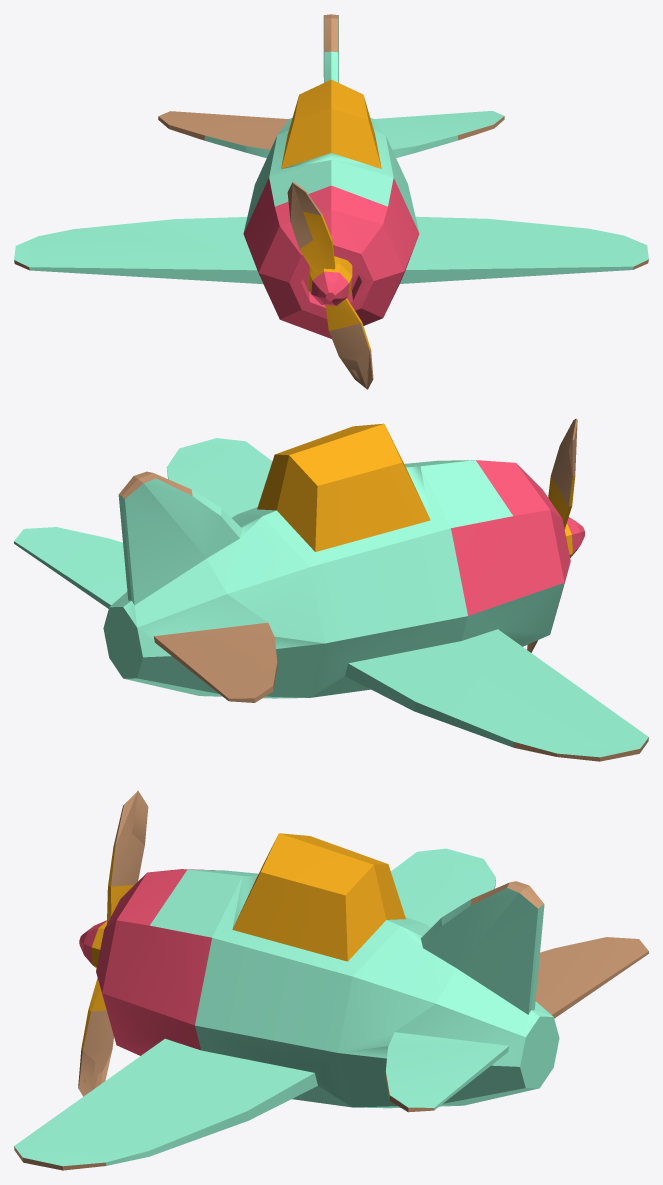
The model's file is Toy24.fbx.
The picture shows the model from 3 angles, top to bottom: view 1: azimuth 30°, elevation 25°; view 2: azimuth 150°, elevation 25°; view 3: azimuth 270°, elevation 25°; orthographic projection. The views are drawn at different scales.
Parts seen in each view (by area): view 1: Toy24; view 2: Toy24; view 3: Toy24.
Part boxes in pixels (left/top/right/bottom): Toy24: left=14, top=14, right=648, bottom=389; Toy24: left=14, top=418, right=648, bottom=761; Toy24: left=14, top=790, right=648, bottom=1170.
Bounding box in the file's own units: 0.2504 × 0.1106 × 0.211.
